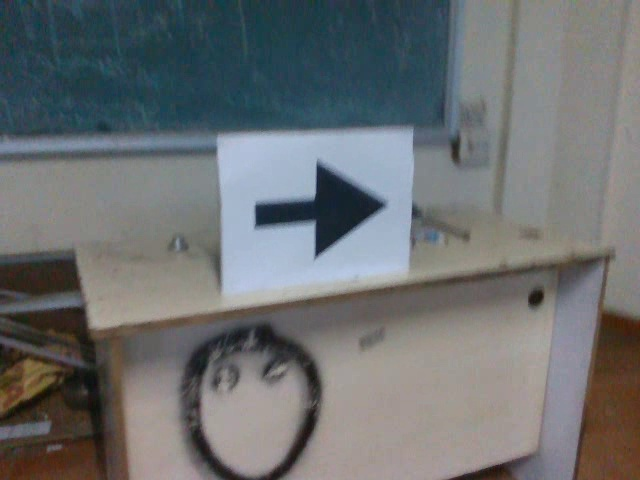Right: (241, 156, 391, 265)
